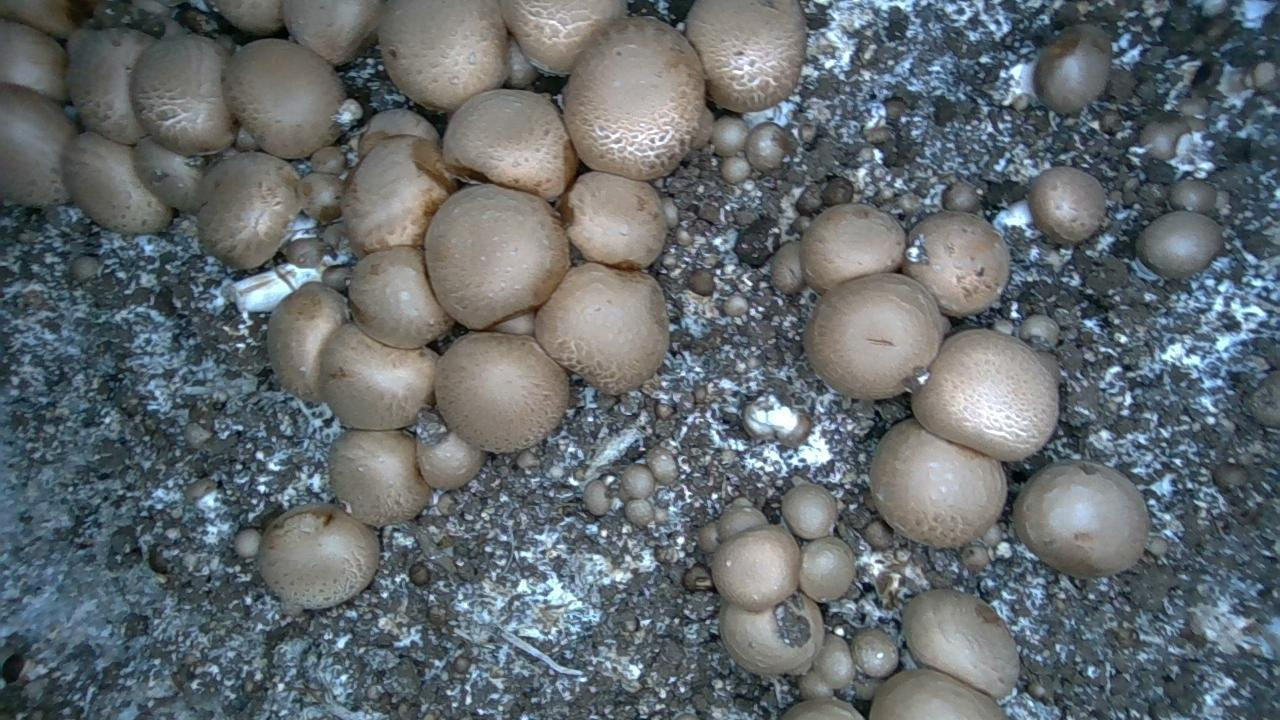BB: (564, 17, 704, 180), (425, 184, 569, 328), (912, 329, 1058, 460), (535, 263, 669, 394), (870, 419, 1006, 547), (804, 273, 943, 398), (434, 332, 569, 452), (1013, 461, 1149, 577), (443, 89, 577, 199), (222, 39, 345, 158), (378, 0, 507, 111), (685, 0, 806, 112), (341, 135, 455, 253), (903, 589, 1019, 698), (130, 35, 234, 155), (259, 504, 378, 608), (320, 324, 437, 429), (198, 152, 299, 268), (901, 211, 1009, 316), (63, 131, 172, 233), (349, 246, 452, 348), (560, 171, 667, 269), (67, 28, 152, 144), (329, 430, 431, 526), (267, 282, 348, 402), (499, 0, 626, 74), (800, 203, 905, 292), (719, 593, 824, 674), (711, 525, 800, 611), (1033, 24, 1111, 113), (869, 669, 1007, 719), (283, 0, 383, 64), (1028, 166, 1106, 244), (1136, 210, 1224, 278), (415, 410, 485, 489), (133, 138, 202, 211), (359, 109, 439, 156), (799, 536, 854, 601), (782, 483, 837, 539), (209, 0, 283, 35), (812, 633, 855, 689), (851, 629, 898, 678), (298, 172, 342, 224), (745, 122, 788, 171), (718, 506, 768, 542), (771, 242, 804, 294), (782, 698, 862, 719), (1169, 178, 1216, 213), (710, 116, 749, 156), (1019, 314, 1059, 348), (646, 447, 678, 484), (285, 237, 324, 267), (310, 146, 346, 175), (1212, 463, 1248, 489), (720, 155, 751, 183), (233, 528, 261, 558), (961, 544, 990, 572), (322, 265, 351, 291), (696, 522, 720, 553), (689, 269, 714, 295), (722, 295, 748, 316), (409, 562, 430, 585)
